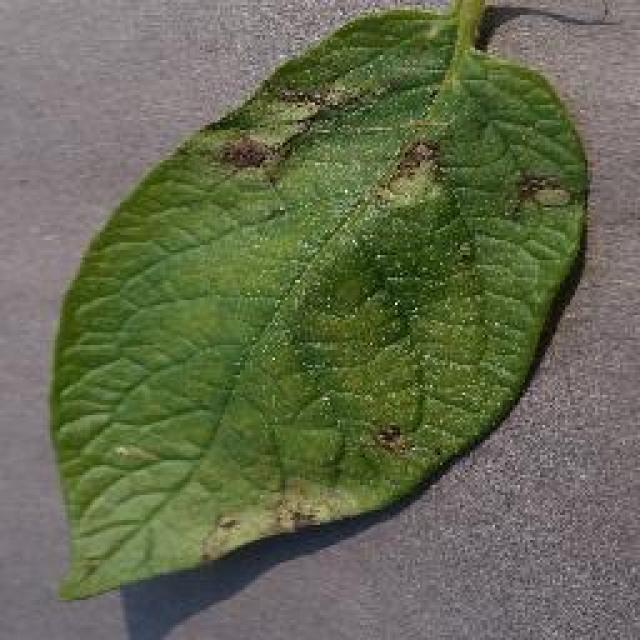Potato___Late_blight: (42, 0, 591, 601)
